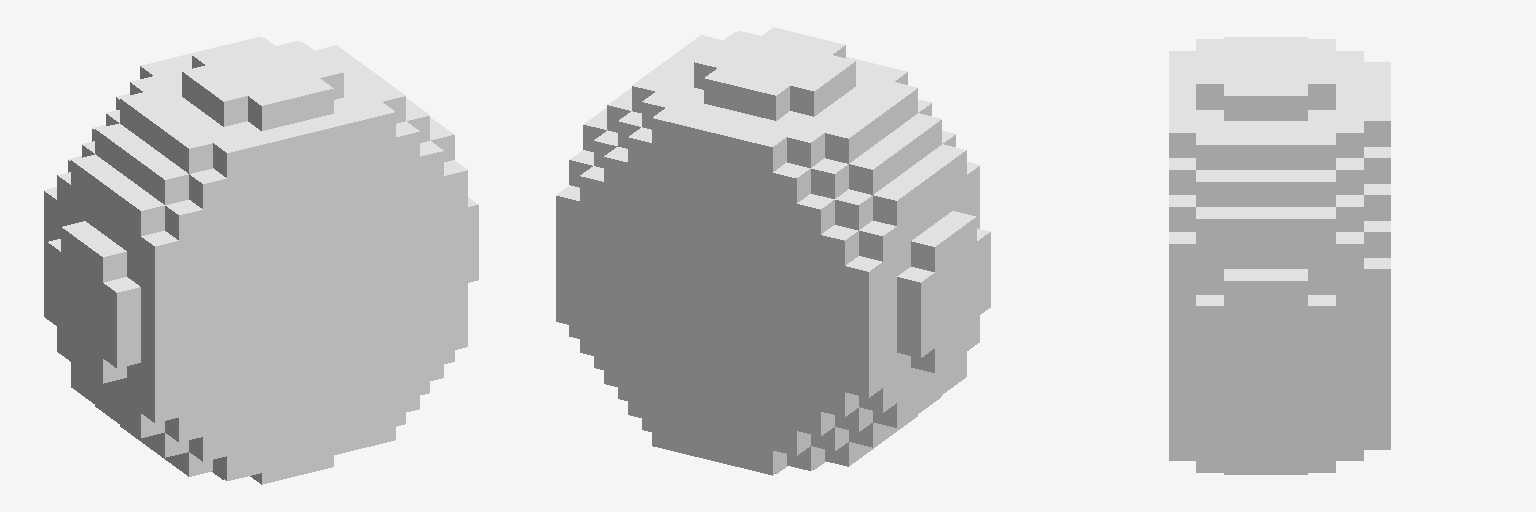
The model's file is eye-5-eye.obj.
The picture shows the model from 3 angles: view 1: azimuth 30°, elevation 25°; view 2: azimuth 150°, elevation 25°; view 3: azimuth 270°, elevation 25°; orthographic projection.
Parts seen in each view (by area): view 1: eye; view 2: eye; view 3: eye.
Part boxes in pixels (bbox=[...]): eye: bbox=[44, 36, 478, 484]; eye: bbox=[556, 27, 990, 475]; eye: bbox=[1169, 37, 1390, 474].
Size of the model in its own units: 1.5 by 1.5 by 0.8.